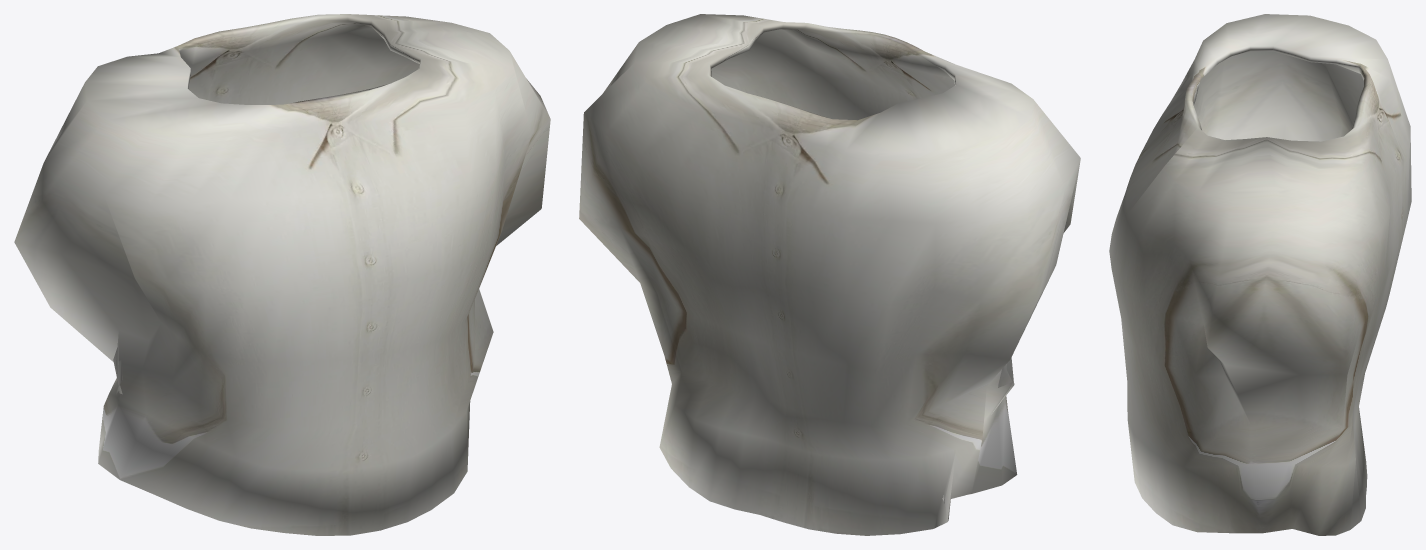
File: e211540c-cb9a-4f46-a2d3-7eae0ba996ee.glb
3 renders of one model, left to right at view 1: azimuth 30°, elevation 25°; view 2: azimuth 150°, elevation 25°; view 3: azimuth 270°, elevation 25°, orthographic. The views are drawn at different scales.
Parts seen in each view (by area): view 1: garment; view 2: garment; view 3: garment.
Boxes of the visible parts, x1,y1,x2,y2 form: garment: (14,14,550,535); garment: (579,14,1080,535); garment: (1109,14,1411,535).
Size of the model in its own units: 0.5483 by 0.4613 by 0.3221.
1 material, 1 textured.
